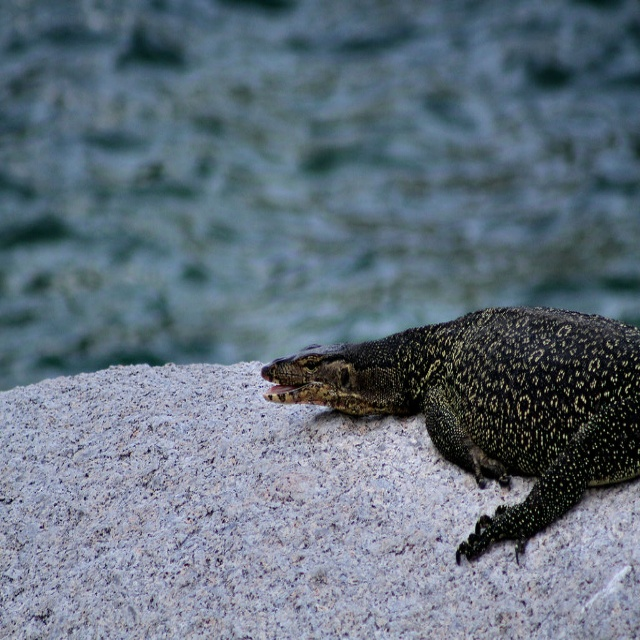Lizard: (291, 324, 636, 572)
